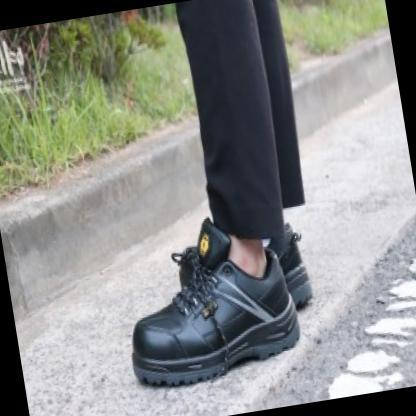safety-shoe: (114, 247, 308, 407)
